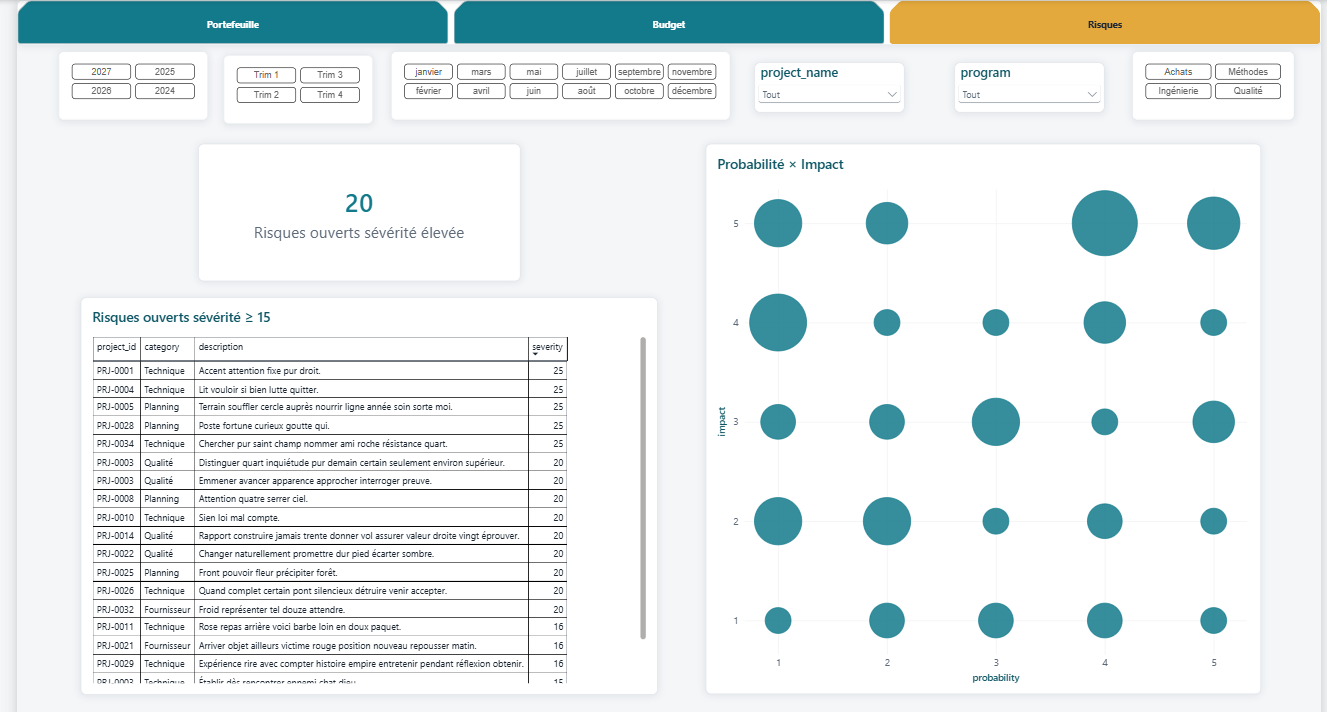

What the dashboard file says about the page in this screenshot:
{"tool":"powerbi","page":{"name":"Risques","canvas":[1280,720],"ordinal":2},"visuals":[{"type":"shape","box":[0,0,1280,48],"z":0},{"type":"textbox","box":[16,2,570,46],"z":100},{"type":"pageNavigator","box":[600,10,664,34],"z":200},{"type":"ChicletSlicer1448559807354","fields":{"Category":["fact_budget_lines.month.Variation.Hiérarchie de dates.Année"]},"box":[16,56,139.3,52],"z":1003},{"type":"ChicletSlicer1448559807354","fields":{"Category":["fact_budget_lines.month.Variation.Hiérarchie de dates.Trimestre"]},"box":[167.3,56,183.3,52],"z":1004},{"type":"ChicletSlicer1448559807354","fields":{"Category":["fact_budget_lines.month.Variation.Hiérarchie de dates.Mois"]},"box":[362.7,56,440,52],"z":1005},{"type":"slicer","fields":{"Values":["mart_kpi_project.project_name"]},"box":[814.7,56,124.7,52],"z":1006},{"type":"slicer","fields":{"Values":["mart_kpi_project.program"]},"box":[951.3,56,124.7,52],"z":1007},{"type":"ChicletSlicer1448559807354","fields":{"Category":["mart_kpi_project.department"]},"box":[1088,56,176,52],"z":1008},{"type":"textbox","box":[16,688,1248,30],"z":1200},{"type":"tableEx","title":"Risques ouverts sévérité ≥ 15","fields":{"Values":["fact_risks.project_id","fact_risks.category","fact_risks.description","fact_risks.severity"]},"box":[16,275.9,610.8,404.1],"z":5009},{"type":"scatterChart","title":"Probabilité × Impact","fields":{"Size":["fact_risks.Risques ouverts"],"X":["fact_risks.probability"],"Y":["fact_risks.impact"]},"box":[676.4,120,587.6,560],"z":5010},{"type":"card","fields":{"Values":["fact_risks.Risques ouverts sévérité élevée"]},"box":[140.1,120,341,140],"z":5011}]}

Visuals, with their boxes on the page's 1280x720 design canvas (x1, y1, x2, y2). These are canvas units, not pixel positions in the 1327x712 screenshot, which may show the page scaled, cropped or inside an application window:
shape: Rect(0, 0, 1280, 48)
textbox: Rect(16, 2, 586, 48)
pageNavigator: Rect(600, 10, 1264, 44)
ChicletSlicer1448559807354 - fact_budget_lines.month.Variation.Hiérarchie de dates.Année: Rect(16, 56, 155, 108)
ChicletSlicer1448559807354 - fact_budget_lines.month.Variation.Hiérarchie de dates.Trimestre: Rect(167, 56, 351, 108)
ChicletSlicer1448559807354 - fact_budget_lines.month.Variation.Hiérarchie de dates.Mois: Rect(363, 56, 803, 108)
slicer - mart_kpi_project.project_name: Rect(815, 56, 939, 108)
slicer - mart_kpi_project.program: Rect(951, 56, 1076, 108)
ChicletSlicer1448559807354 - mart_kpi_project.department: Rect(1088, 56, 1264, 108)
textbox: Rect(16, 688, 1264, 718)
"Risques ouverts sévérité ≥ 15" tableEx: Rect(16, 276, 627, 680)
"Probabilité × Impact" scatterChart: Rect(676, 120, 1264, 680)
card - fact_risks.Risques ouverts sévérité élevée: Rect(140, 120, 481, 260)
